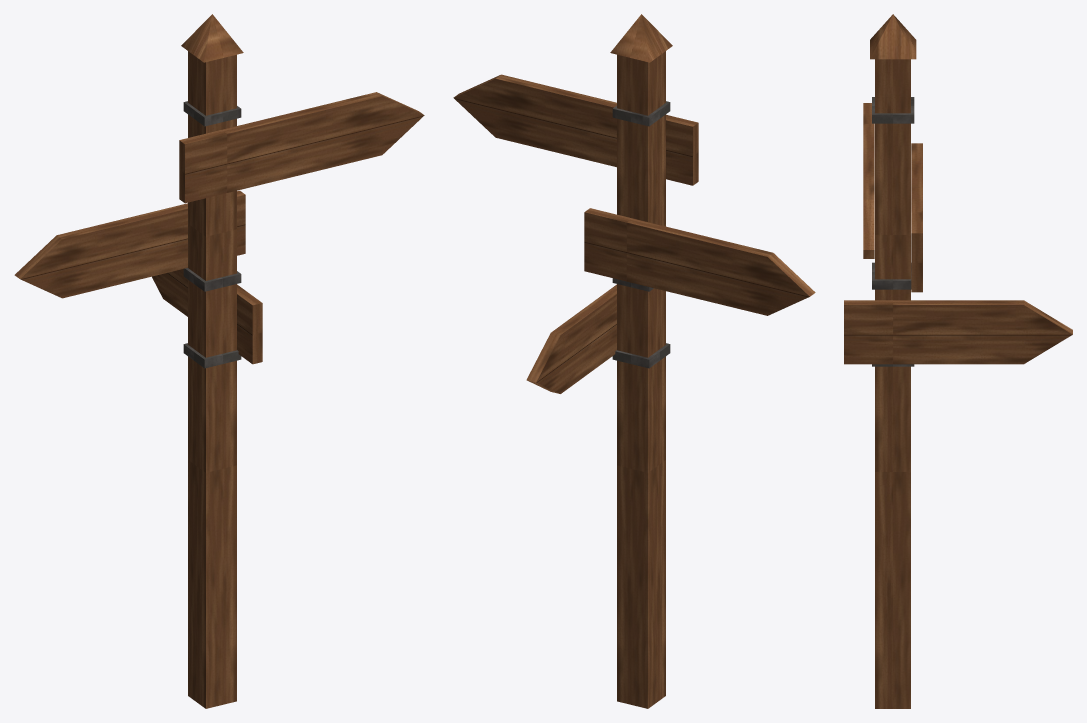
File: signpost.glb
The picture shows the model from 3 angles, left to right: view 1: azimuth 30°, elevation 25°; view 2: azimuth 150°, elevation 25°; view 3: azimuth 270°, elevation 25°; orthographic projection.
Parts seen in each view (by area): view 1: Signpost_oak, Signpost_oakPlanks, Signpost_iron; view 2: Signpost_oakPlanks, Signpost_oak, Signpost_iron; view 3: Signpost_oak, Signpost_oakPlanks, Signpost_iron.
Part boxes in pixels (<box>): Signpost_oak: <box>181,14,243,708</box>; Signpost_oakPlanks: <box>14,92,424,364</box>; Signpost_iron: <box>183,101,241,368</box>; Signpost_oakPlanks: <box>453,74,815,393</box>; Signpost_oak: <box>610,14,672,708</box>; Signpost_iron: <box>612,101,670,368</box>; Signpost_oak: <box>870,14,916,708</box>; Signpost_oakPlanks: <box>844,103,1072,364</box>; Signpost_iron: <box>872,97,914,366</box>.
Size of the model in its own units: 1.35 by 2.32 by 0.7.
3 materials, 3 textured.
